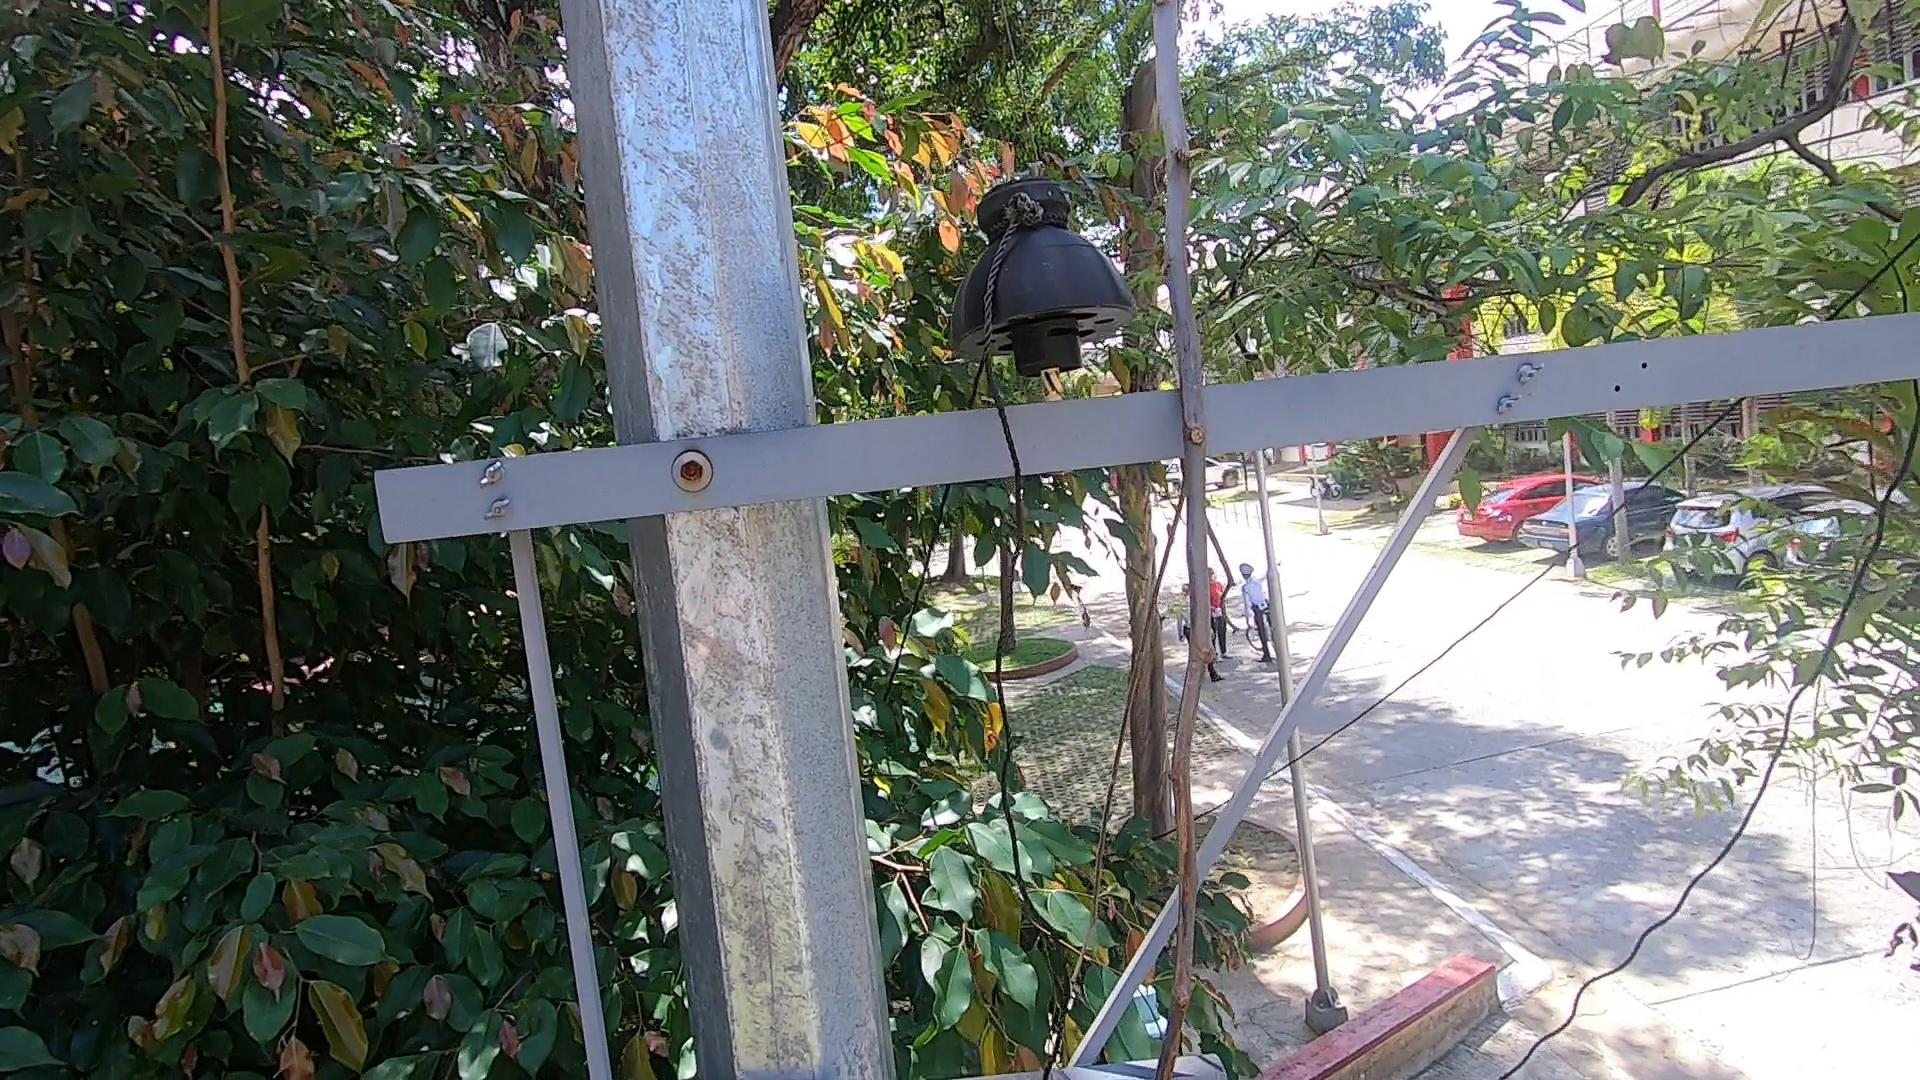tree branch: (1112, 5, 1250, 1080)
